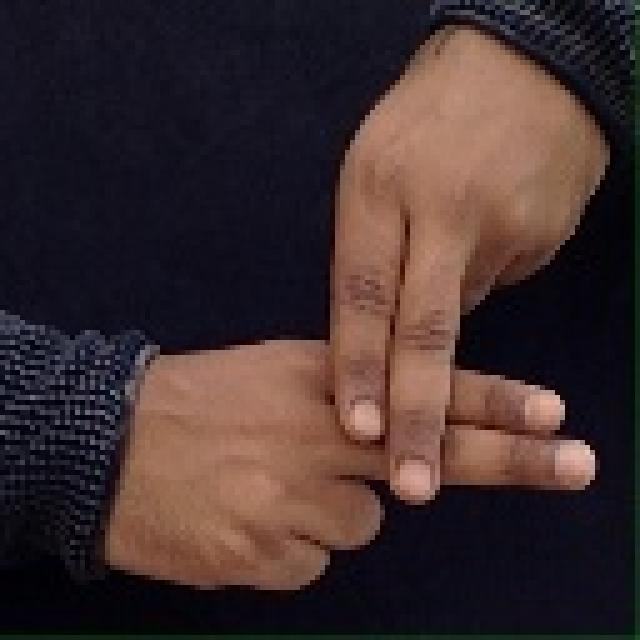Alphabet-F: (122, 24, 610, 606)
